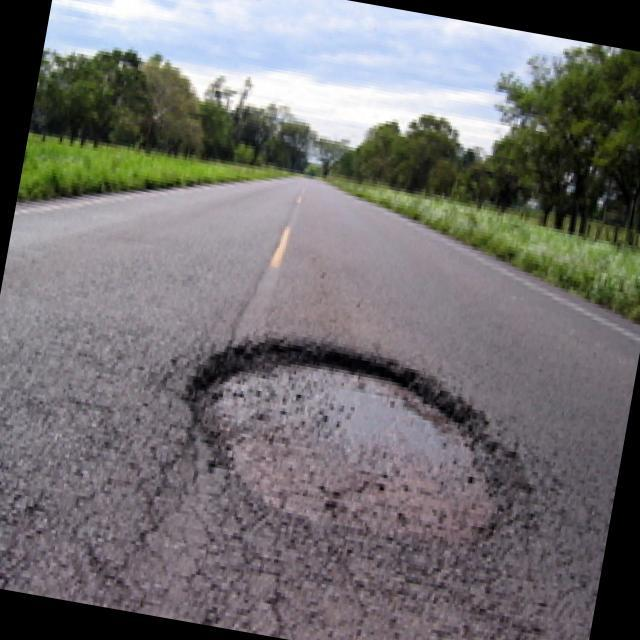Pothole: (119, 305, 596, 585)
